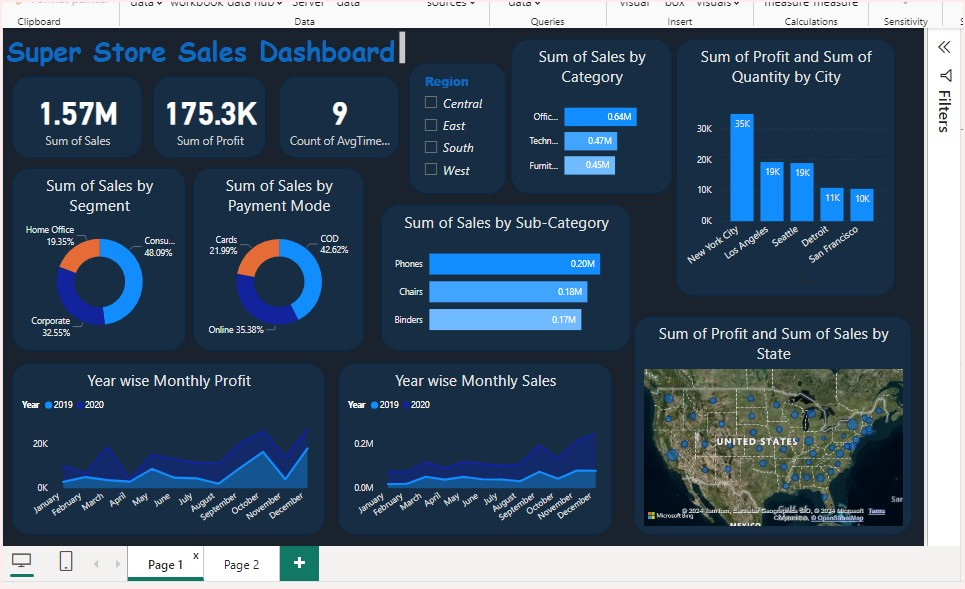

The page's visual inventory and layout, read from the dashboard file:
{"tool":"powerbi","page":{"name":"Page 1","canvas":[1280,720],"ordinal":0},"visuals":[{"type":"clusteredBarChart","fields":{"Category":["SuperStore_Sales_Dataset (2).Category"],"Y":["Sum(SuperStore_Sales_Dataset (2).Sales)"]},"box":[706.1,15.3,223.8,215.4],"z":0},{"type":"clusteredBarChart","fields":{"Category":["SuperStore_Sales_Dataset (2).Sub-Category"],"Y":["Sum(SuperStore_Sales_Dataset (2).Sales)"]},"box":[525.4,246,347.5,202.9],"z":1000},{"type":"stackedAreaChart","title":"Year wise Monthly Sales","fields":{"Category":["SuperStore_Sales_Dataset (2).Order Date.Variation.Date Hierarchy.Month","SuperStore_Sales_Dataset (2).Order Date.Variation.Date Hierarchy.Day"],"Y":["Sum(SuperStore_Sales_Dataset (2).Sales)"],"Series":["SuperStore_Sales_Dataset (2).Order Date.Variation.Date Hierarchy.Year"]},"box":[465.6,465.6,380.8,239.1],"z":2000},{"type":"stackedAreaChart","title":"Year wise Monthly Profit","fields":{"Category":["SuperStore_Sales_Dataset (2).Order Date.Variation.Date Hierarchy.Month","SuperStore_Sales_Dataset (2).Order Date.Variation.Date Hierarchy.Day"],"Series":["SuperStore_Sales_Dataset (2).Order Date.Variation.Date Hierarchy.Year"],"Y":["Sum(SuperStore_Sales_Dataset (2).Profit)"]},"box":[12.5,465.6,435.1,239.1],"z":3000},{"type":"map","fields":{"Category":["SuperStore_Sales_Dataset (2).State"],"Size":["Sum(SuperStore_Sales_Dataset (2).Profit)"]},"box":[877.1,400.3,386.4,304.4],"z":4000},{"type":"donutChart","fields":{"Category":["SuperStore_Sales_Dataset (2).Segment"],"Y":["Sum(SuperStore_Sales_Dataset (2).Sales)"]},"box":[12.5,194.6,241.9,254.4],"z":5000},{"type":"donutChart","fields":{"Category":["SuperStore_Sales_Dataset (2).Payment Mode","SuperStore_Sales_Dataset (2).Segment"],"Y":["Sum(SuperStore_Sales_Dataset (2).Sales)"]},"box":[264.1,194.6,237.7,254.4],"z":6000},{"type":"lineStackedColumnComboChart","fields":{"Category":["SuperStore_Sales_Dataset (2).City"],"Y":["Sum(SuperStore_Sales_Dataset (2).Profit)"]},"box":[935.4,15.3,304.4,357.2],"z":7000},{"type":"slicer","fields":{"Values":["SuperStore_Sales_Dataset (2).Region"]},"box":[564.3,48.6,134.8,182.1],"z":8000},{"type":"textbox","box":[0,0,564.3,58.4],"z":9000},{"type":"card","fields":{"Values":["Sum(SuperStore_Sales_Dataset (2).Sales)"]},"box":[12.5,66.7,180.7,114],"z":10000},{"type":"card","fields":{"Values":["Sum(SuperStore_Sales_Dataset (2).Profit)"]},"box":[208.5,66.7,157.1,114],"z":11000},{"type":"card","fields":{"Values":["Count(SuperStore_Sales_Dataset (2).AvgTimeForDelivery)"]},"box":[383.6,66.7,166.8,114],"z":12000}]}

Visuals, with their boxes on the page's 1280x720 design canvas (x1, y1, x2, y2). These are canvas units, not pixel positions in the 965x589 screenshot, which may show the page scaled, cropped or inside an application window:
clusteredBarChart - SuperStore_Sales_Dataset (2).Category x Sum(SuperStore_Sales_Dataset (2).Sales): 706,15,930,231
clusteredBarChart - SuperStore_Sales_Dataset (2).Sub-Category x Sum(SuperStore_Sales_Dataset (2).Sales): 525,246,873,449
"Year wise Monthly Sales" stackedAreaChart: 466,466,846,705
"Year wise Monthly Profit" stackedAreaChart: 12,466,448,705
map - SuperStore_Sales_Dataset (2).State x Sum(SuperStore_Sales_Dataset (2).Profit): 877,400,1264,705
donutChart - SuperStore_Sales_Dataset (2).Segment x Sum(SuperStore_Sales_Dataset (2).Sales): 12,195,254,449
donutChart - SuperStore_Sales_Dataset (2).Payment Mode x SuperStore_Sales_Dataset (2).Segment: 264,195,502,449
lineStackedColumnComboChart - SuperStore_Sales_Dataset (2).City x Sum(SuperStore_Sales_Dataset (2).Profit): 935,15,1240,372
slicer - SuperStore_Sales_Dataset (2).Region: 564,49,699,231
textbox: 0,0,564,58
card - Sum(SuperStore_Sales_Dataset (2).Sales): 12,67,193,181
card - Sum(SuperStore_Sales_Dataset (2).Profit): 208,67,366,181
card - Count(SuperStore_Sales_Dataset (2).AvgTimeForDelivery): 384,67,550,181
